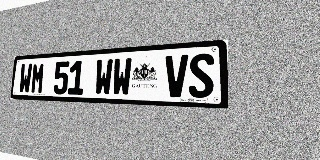1: (68, 60, 85, 95)
5: (53, 61, 69, 94)
M: (30, 62, 45, 94)
S: (188, 53, 214, 98)
V: (164, 54, 188, 97)
W: (112, 58, 132, 96), (94, 59, 113, 96), (18, 63, 32, 94)
